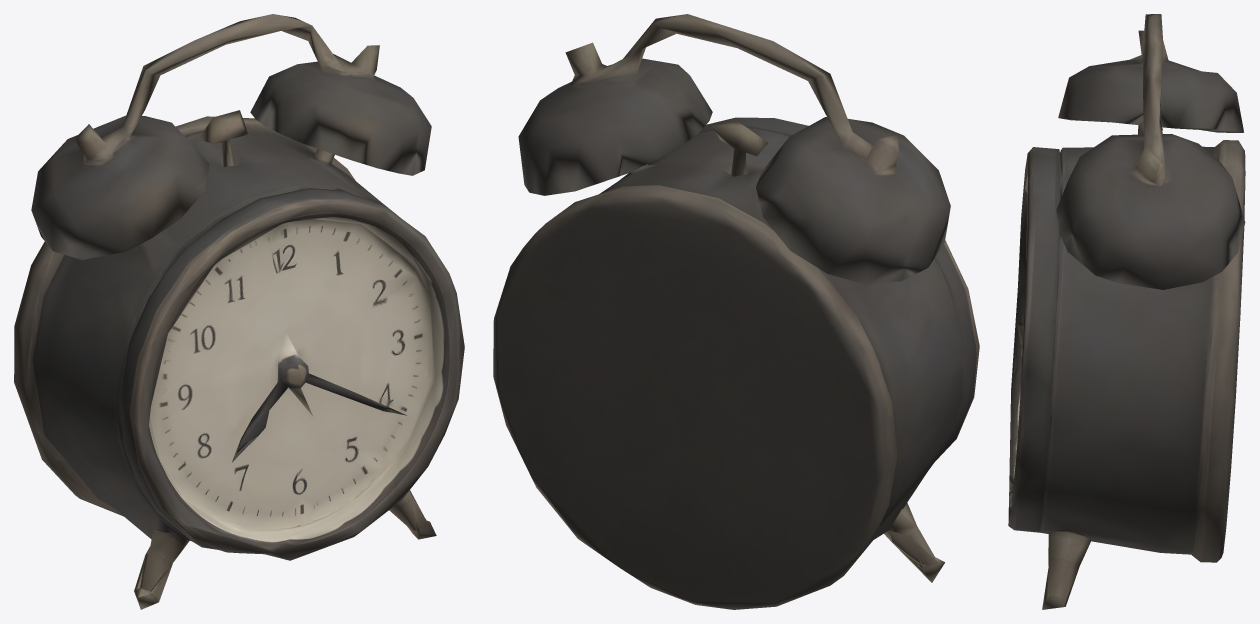
Rendered from ENV_SMALL_PROPS_ALARM_CLOCK_v001_RAW.glb.glb.
3 renders of one model, left to right at view 1: azimuth 30°, elevation 25°; view 2: azimuth 150°, elevation 25°; view 3: azimuth 270°, elevation 25°, orthographic. The views are drawn at different scales.
Visible parts, largest first — view 1: tripo_node_d4bbfa3b-2199-43cc-a64e-3319cbbdca10; view 2: tripo_node_d4bbfa3b-2199-43cc-a64e-3319cbbdca10; view 3: tripo_node_d4bbfa3b-2199-43cc-a64e-3319cbbdca10.
Part boxes in pixels (x1,y1,x2,y2): tripo_node_d4bbfa3b-2199-43cc-a64e-3319cbbdca10: (14, 14, 464, 609); tripo_node_d4bbfa3b-2199-43cc-a64e-3319cbbdca10: (493, 14, 979, 609); tripo_node_d4bbfa3b-2199-43cc-a64e-3319cbbdca10: (1008, 14, 1245, 609).
Bounding box in the file's own units: 0.7431 × 0.9856 × 0.4099.
Materials: 1 (1 with a texture image).
